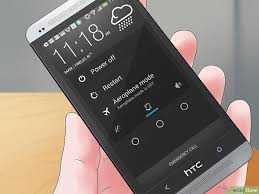htc: (23, 1, 256, 194)
